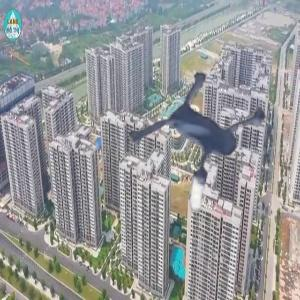drone: (99, 52, 292, 245)
